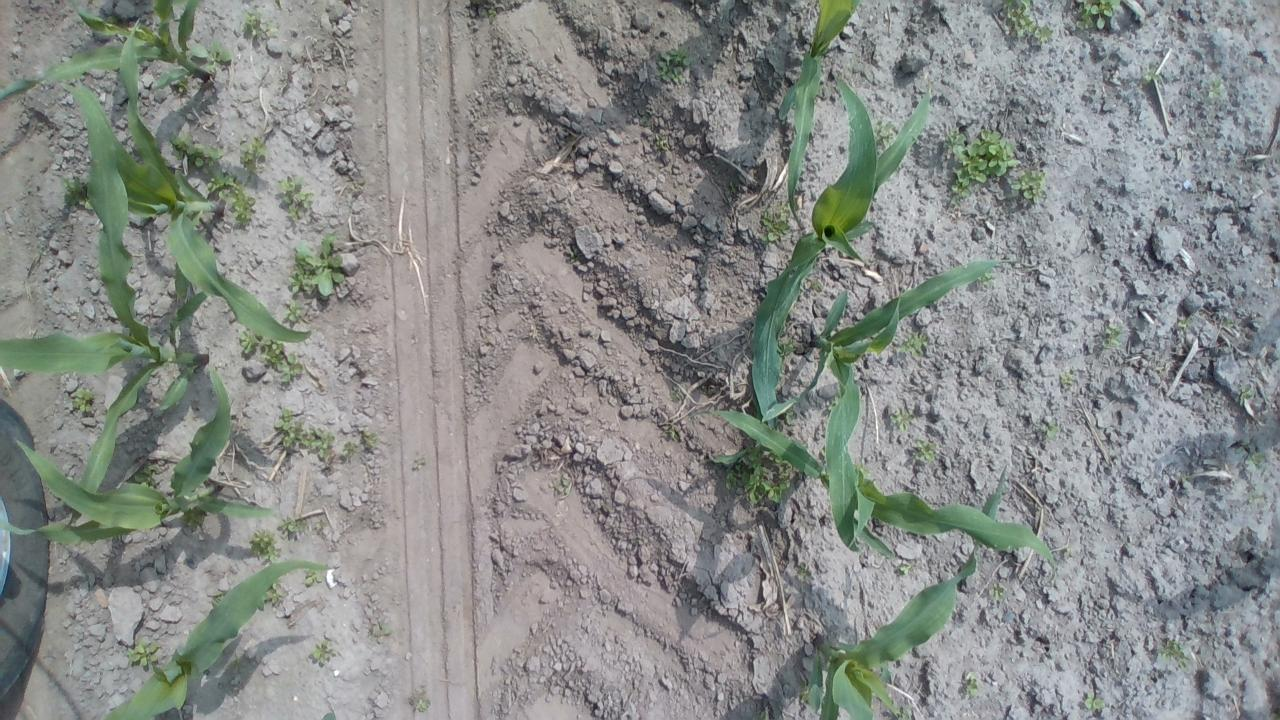Maize: (0, 80, 215, 535), (708, 73, 934, 468), (758, 253, 1019, 556), (81, 22, 312, 346), (711, 398, 1060, 570), (801, 466, 1003, 720), (0, 364, 276, 542), (96, 555, 332, 720), (0, 0, 215, 104), (774, 0, 860, 233)
Weeds: (942, 123, 1048, 209), (707, 441, 796, 505), (287, 232, 346, 298), (238, 330, 306, 386), (272, 406, 333, 458), (207, 170, 256, 228), (1000, 0, 1054, 44), (167, 134, 225, 173), (276, 174, 316, 222), (654, 46, 698, 82), (760, 200, 794, 246), (1074, 0, 1122, 31), (188, 40, 234, 72), (246, 527, 282, 566), (59, 176, 95, 212), (240, 136, 268, 178), (240, 10, 279, 40), (126, 638, 160, 670), (1160, 639, 1192, 672), (128, 460, 161, 490), (63, 386, 96, 414), (888, 406, 917, 434), (911, 437, 941, 464), (897, 332, 929, 356), (311, 638, 338, 666), (872, 117, 896, 146), (281, 297, 303, 324), (1040, 418, 1062, 443), (1102, 323, 1122, 349), (1244, 451, 1266, 474), (278, 516, 309, 532), (360, 424, 380, 448), (179, 510, 202, 530), (963, 671, 979, 698), (778, 334, 796, 358), (1083, 691, 1105, 710), (264, 584, 284, 604), (550, 478, 572, 496), (974, 270, 996, 288), (304, 568, 326, 586), (342, 440, 362, 458), (1142, 66, 1160, 84), (654, 132, 670, 152), (991, 582, 1008, 600), (224, 657, 244, 672), (1208, 78, 1222, 98), (1238, 384, 1251, 405), (896, 706, 914, 720), (1060, 371, 1076, 386), (662, 428, 679, 442), (796, 560, 810, 577), (480, 5, 498, 18), (726, 175, 738, 194), (796, 686, 810, 702), (415, 698, 431, 712), (566, 250, 580, 263), (175, 78, 188, 92), (85, 0, 104, 9), (1248, 494, 1265, 504), (212, 592, 224, 606), (670, 384, 680, 400), (752, 710, 768, 720), (784, 409, 794, 424), (899, 562, 910, 575), (1176, 318, 1190, 328), (106, 14, 120, 24), (826, 398, 836, 410), (321, 712, 336, 720), (812, 279, 822, 290), (1063, 544, 1073, 554), (1222, 320, 1234, 328), (640, 115, 650, 124)
